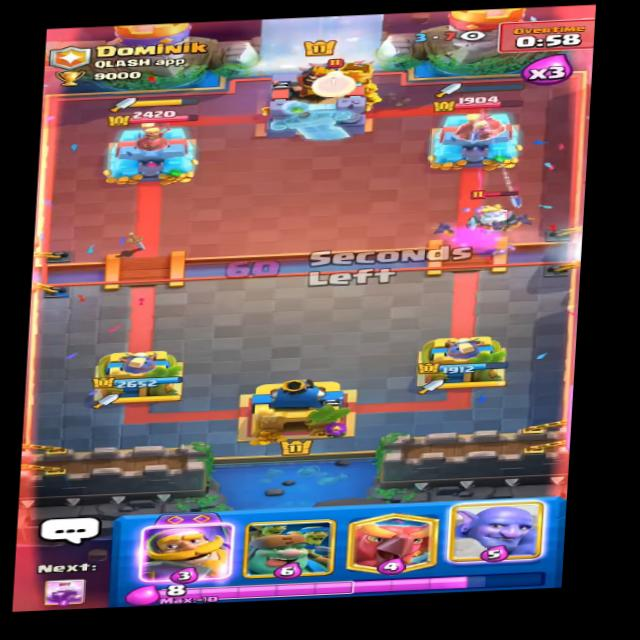pekka: (298, 56, 378, 85)
royal-ghost: (454, 184, 531, 233)
